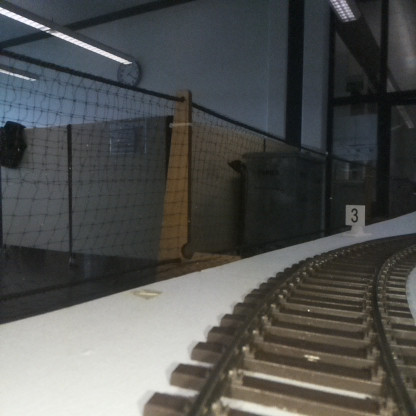white-stop-3: (345, 205, 365, 236)
